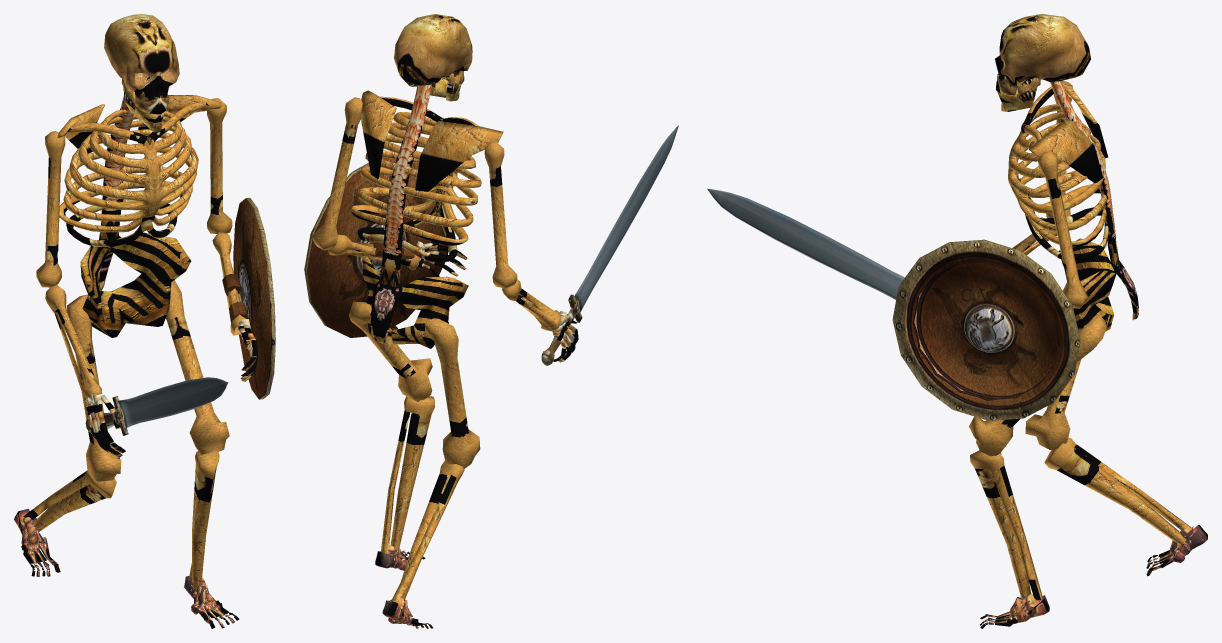
Rendered from Skeleton_000006.obj.
The picture shows the model from 3 angles, left to right: view 1: azimuth 30°, elevation 25°; view 2: azimuth 150°, elevation 25°; view 3: azimuth 270°, elevation 25°; orthographic projection. The views are drawn at different scales.
Visible parts, largest first — view 1: Costillar, Coxis, Shield_Shield.001, Femur, Skull, Tibia, Humero, Sword, Radio, Feet, Hands, Omoplato (+1 smaller); view 2: Costillar, Shield_Shield.001, Tibia, Femur, Omoplato, Skull, Humero, Coxis, Sword, Radio, Hands, Feet (+1 smaller); view 3: Shield_Shield.001, Costillar, Tibia, Skull, Sword, Femur, Omoplato, Humero, Coxis, Feet, Mandibula.
Boxes of the visible parts, box(x1,y1,x2,y2) form: Costillar: box(59, 95, 208, 290); Coxis: box(80, 232, 191, 337); Shield_Shield.001: box(222, 197, 275, 399); Femur: box(66, 280, 229, 481); Skull: box(104, 14, 179, 114); Tibia: box(23, 450, 219, 590); Humero: box(36, 98, 232, 287); Sword: box(85, 377, 228, 435); Radio: box(45, 232, 246, 398); Feet: box(14, 508, 239, 628); Hands: box(85, 319, 257, 457); Omoplato: box(57, 95, 222, 153); Costillar: box(351, 84, 481, 343); Shield_Shield.001: box(304, 157, 448, 337); Tibia: box(381, 396, 464, 602); Femur: box(348, 301, 480, 468); Omoplato: box(361, 90, 503, 191); Skull: box(394, 14, 472, 86); Humero: box(313, 97, 517, 288); Coxis: box(362, 255, 468, 348); Sword: box(541, 125, 678, 365); Radio: box(328, 234, 561, 331); Hands: box(415, 237, 578, 362); Feet: box(375, 545, 432, 628); Shield_Shield.001: box(892, 239, 1080, 420); Costillar: box(1008, 81, 1138, 319); Tibia: box(970, 437, 1191, 600); Skull: box(995, 14, 1090, 95); Sword: box(707, 188, 904, 299); Femur: box(969, 316, 1106, 456); Omoplato: box(1028, 80, 1108, 183); Humero: box(1037, 81, 1088, 308); Coxis: box(1059, 238, 1116, 346); Feet: box(980, 525, 1207, 628); Mandibula: box(997, 77, 1040, 111).
Bounding box in the file's own units: 3.09 × 8.41 × 6.54.
Materials: 5 (5 with a texture image).
